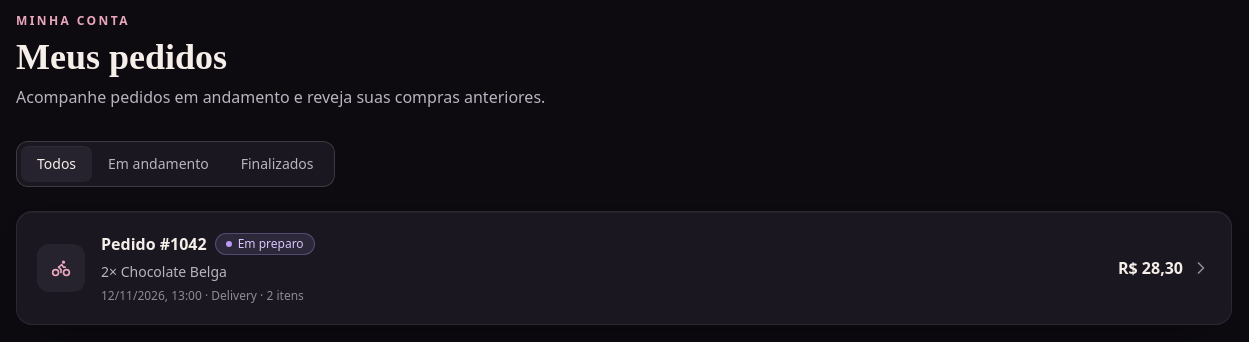
Test case: OrdersPage › lista pedidos e filtra por escopo
Expected: the text "Pedido #1042" is shown, [101,232,207,256]
Expected: the text "2× Chocolate Belga" is shown, [101,262,227,281]
What coordinates should you click on to do the following:
click the radio button labelled "Finalizados"
I would click on:
 (277, 164)
Its box is [241,154,314,173].
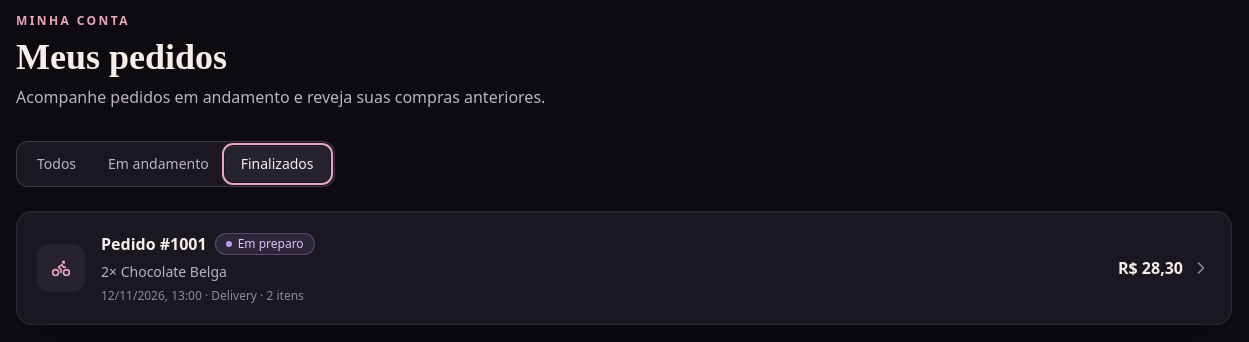
Expected: the text "Pedido #1001" is shown, [101,232,207,256]
